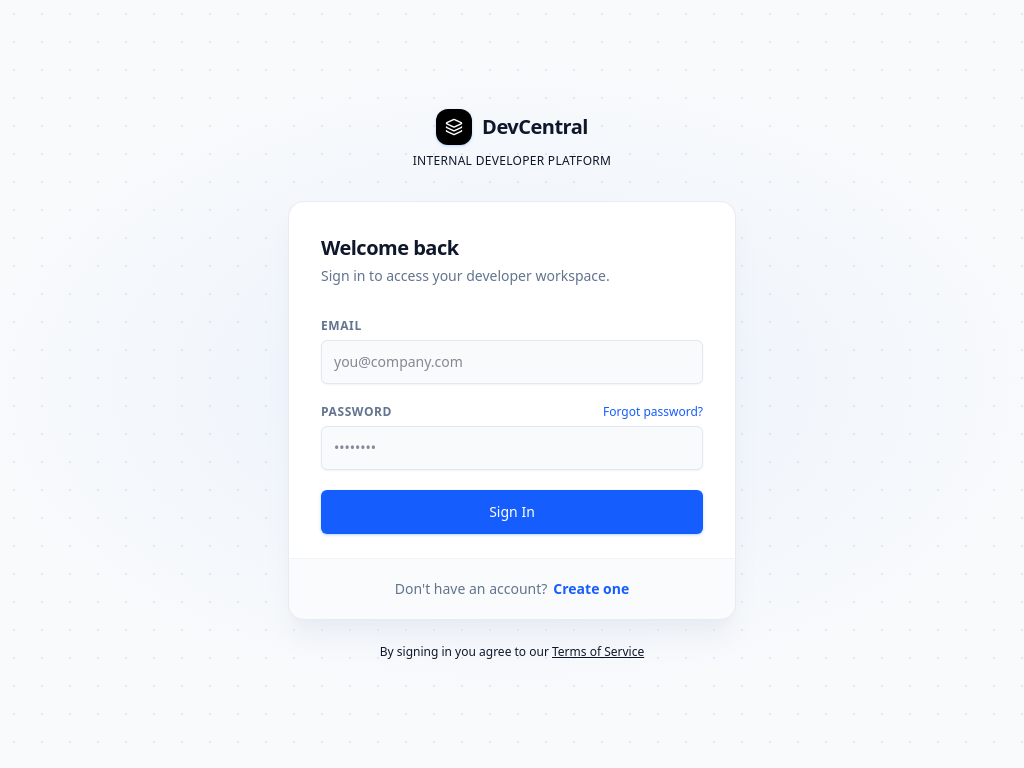
Test: LoginPage › shows an error banner when the API returns a non-ok response
This screenshot has width=1024, height=768.
Step 1. Type "bad@test.com" into the field labelled "Email" → (512, 362), box [321, 340, 703, 384]
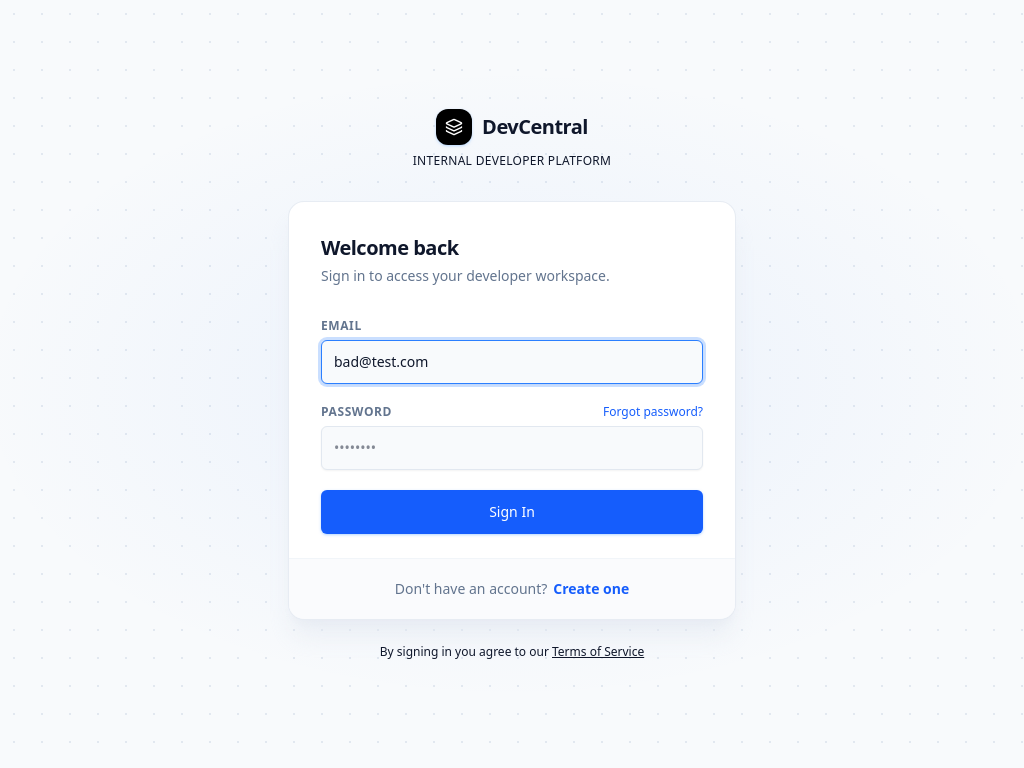
Step 2. Type "wrongpassword" into the password field labelled "Password" → (512, 448), box [321, 426, 703, 470]
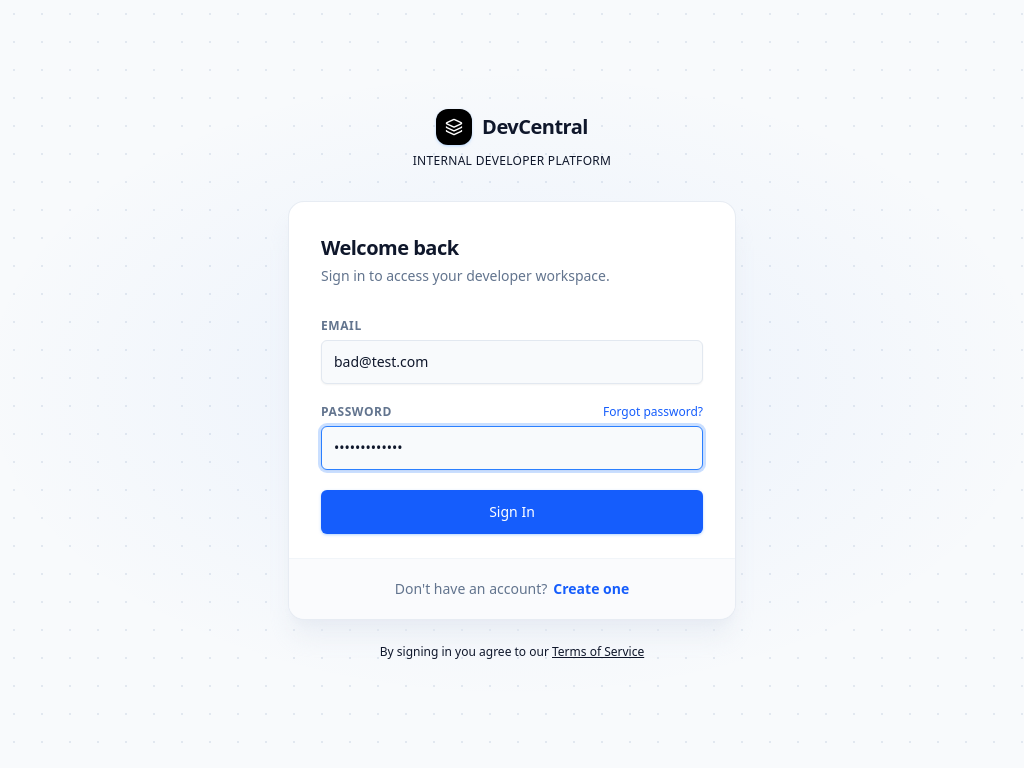
Step 3. Click the button "Sign In" → (512, 512), box [321, 490, 703, 534]
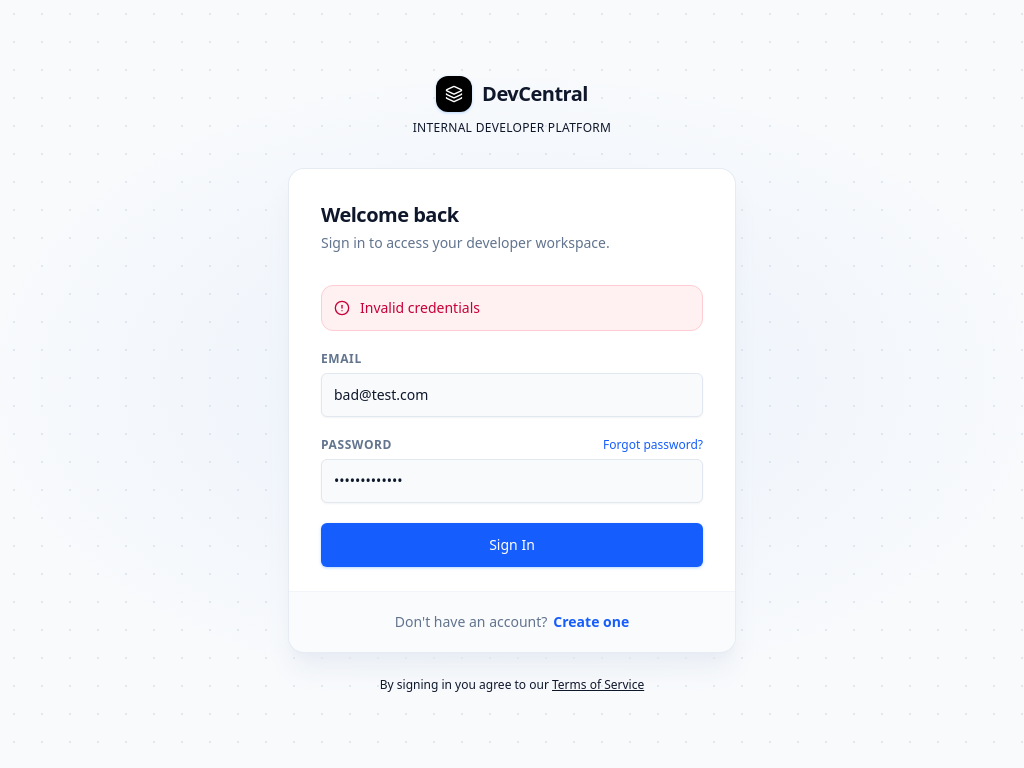
Expected: the button "Sign In" is enabled, [321, 522, 703, 566]
Now the text "Invalid credentials" is shown, box [360, 298, 480, 318]
